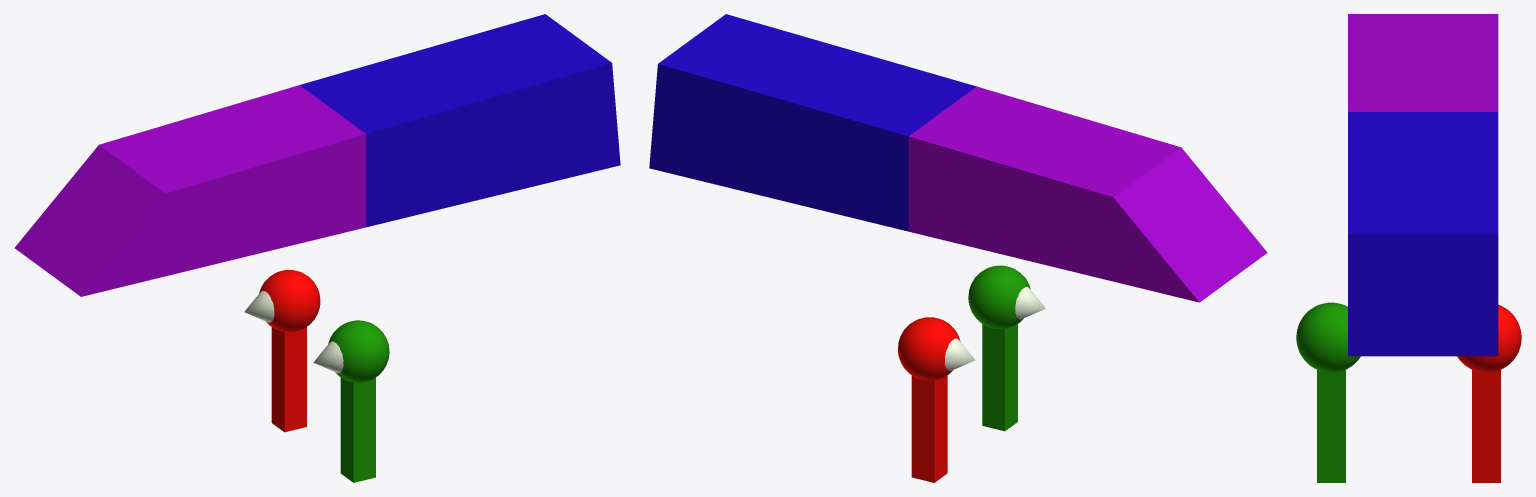
The model's file is gun.glb.
3 views of the same model, side by side, from view 1: azimuth 30°, elevation 25°; view 2: azimuth 150°, elevation 25°; view 3: azimuth 270°, elevation 25° (orthographic). The views are drawn at different scales.
Parts seen in each view (by area): view 1: gun_front, gun_back, left_handle, right_handle; view 2: gun_front, gun_back, left_handle, right_handle; view 3: gun_back, gun_front, right_handle, left_handle.
Boxes of the visible parts, x1=… form: gun_front: x1=14, y1=85, x2=366, y2=296; gun_back: x1=300, y1=14, x2=620, y2=227; left_handle: x1=244, y1=270, x2=320, y2=432; right_handle: x1=313, y1=320, x2=389, y2=482; gun_front: x1=908, y1=86, x2=1267, y2=302; gun_back: x1=649, y1=14, x2=976, y2=231; left_handle: x1=898, y1=317, x2=975, y2=482; right_handle: x1=968, y1=265, x2=1045, y2=431; gun_back: x1=1348, y1=112, x2=1498, y2=356; gun_front: x1=1348, y1=14, x2=1498, y2=111; right_handle: x1=1296, y1=302, x2=1360, y2=482; left_handle: x1=1457, y1=304, x2=1521, y2=482.
Size of what is drawn, in the model's own units: 0.7539 by 0.4586 by 0.243.
